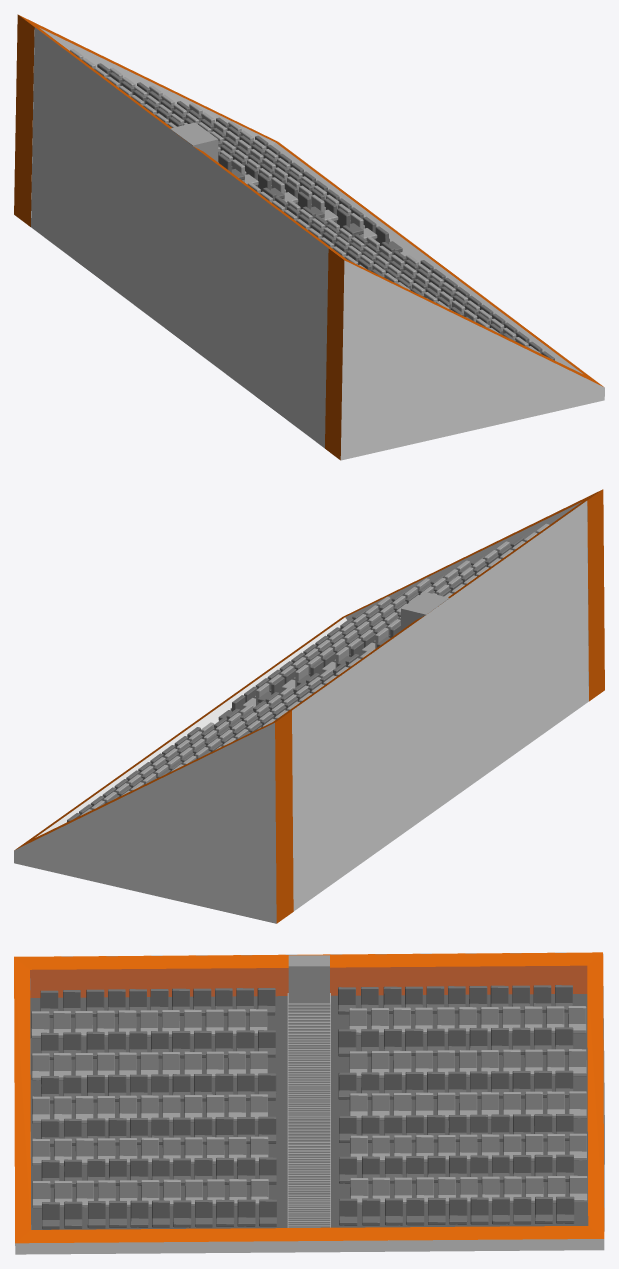
Rendered from tribune_x.fbx.
3 renders of one model, top to bottom at view 1: azimuth 30°, elevation 25°; view 2: azimuth 150°, elevation 25°; view 3: azimuth 270°, elevation 25°, orthographic. The views are drawn at different scales.
Parts seen in each view (by area): view 1: polySurface3481, polySurface3479, pCube9; view 2: polySurface3481, polySurface3479, pCube9; view 3: polySurface3479, polySurface3481, polySurface3480, pCube9.
Boxes of the visible parts, box(x1,y1,x2,y2) form: polySurface3481: box(14, 14, 604, 460); polySurface3479: box(70, 49, 554, 360); pCube9: box(170, 122, 218, 162); polySurface3481: box(14, 489, 604, 923); polySurface3479: box(67, 523, 549, 821); pCube9: box(401, 591, 449, 630); polySurface3479: box(31, 985, 587, 1229); polySurface3481: box(14, 952, 604, 1254); polySurface3480: box(287, 993, 330, 1227); pCube9: box(288, 955, 329, 1003).
Bounding box in the file's own units: 46.21 × 36.5 × 99.32.
